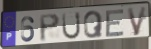6: (21, 16, 36, 44)
E: (105, 8, 126, 39)
P: (38, 13, 61, 43)
Q: (83, 10, 104, 40)
U: (61, 11, 82, 42)
V: (126, 6, 148, 38)
